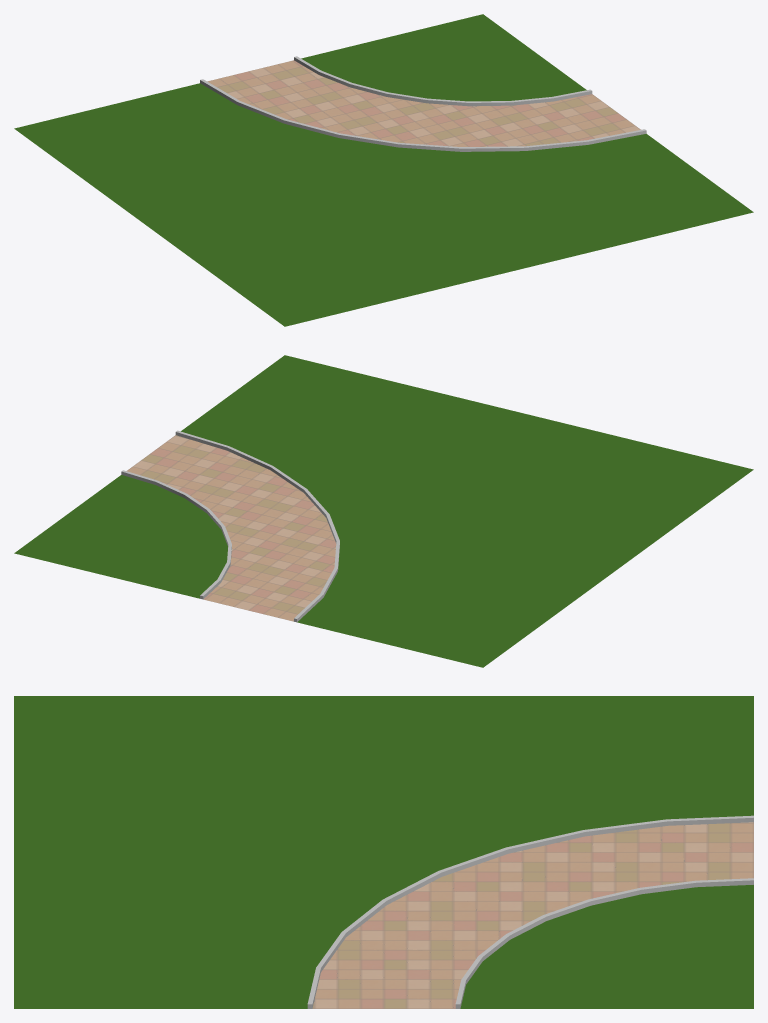
The model's file is Park_Sidewalk_08.fbx.
The picture shows the model from 3 angles, top to bottom: view 1: azimuth 30°, elevation 25°; view 2: azimuth 150°, elevation 25°; view 3: azimuth 270°, elevation 25°; orthographic projection. The views are drawn at different scales.
Visible parts, largest first — view 1: Park_Sidewalk_08; view 2: Park_Sidewalk_08; view 3: Park_Sidewalk_08.
Boxes of the visible parts, bbox=[...] form: Park_Sidewalk_08: bbox=[14, 14, 753, 326]; Park_Sidewalk_08: bbox=[14, 355, 753, 667]; Park_Sidewalk_08: bbox=[14, 696, 753, 1008].
Bounding box in the file's own units: 3000 × 3000 × 20.
